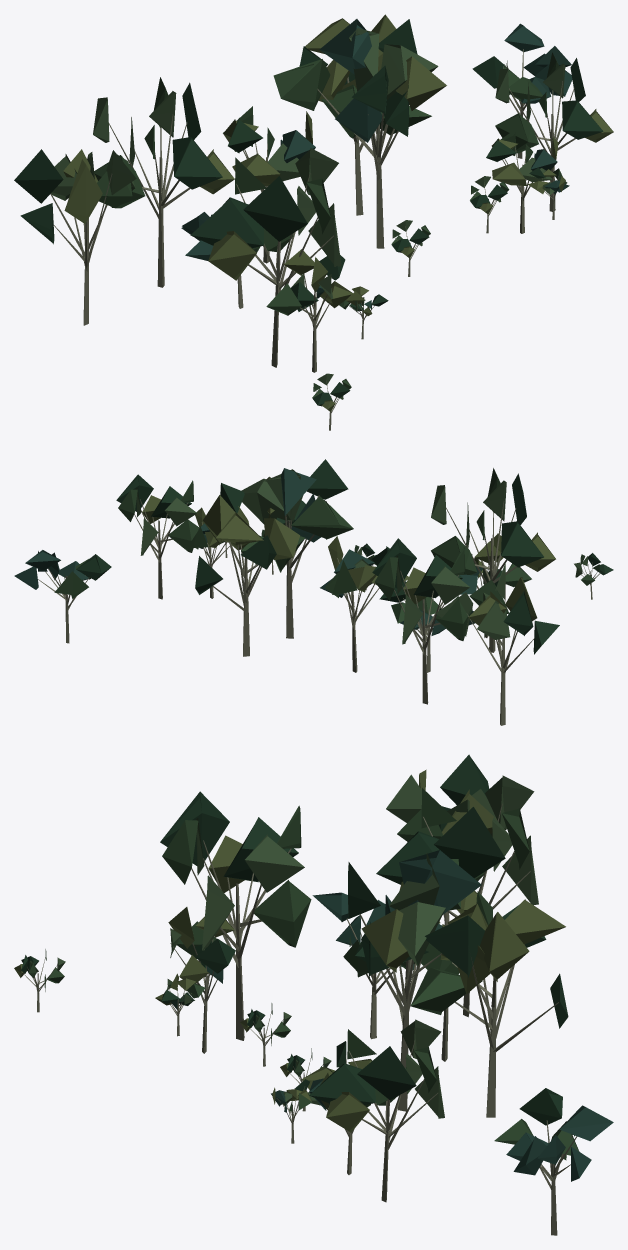
File: forest_20_23.dae
3 views of the same model, one above another, from view 1: azimuth 30°, elevation 25°; view 2: azimuth 150°, elevation 25°; view 3: azimuth 270°, elevation 25° (orthographic). The views are drawn at different scales.
Parts seen in each view (by area): view 1: Node; view 2: Node; view 3: Node.
Part boxes in pixels (<box>): Node: <box>14,14,613,430</box>; Node: <box>14,459,613,725</box>; Node: <box>14,754,613,1235</box>.
Size of the model in its own units: 9.8 by 7.4 by 3.87.
